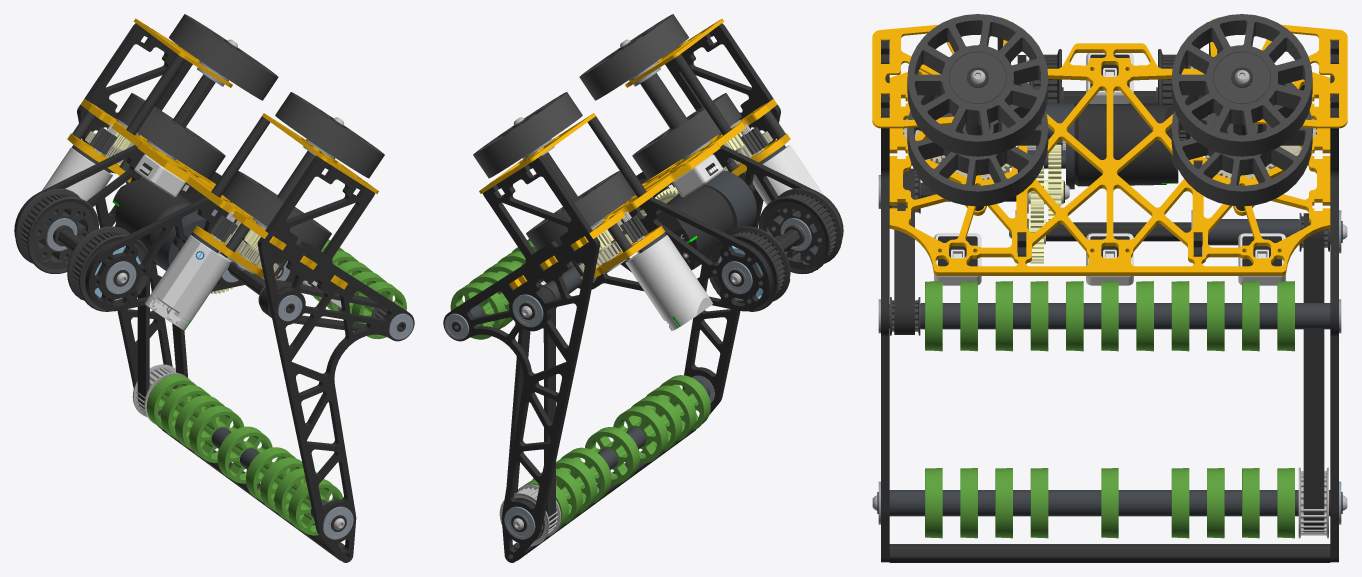
3 renders of one model, left to right at view 1: azimuth 30°, elevation 25°; view 2: azimuth 150°, elevation 25°; view 3: azimuth 270°, elevation 25°, orthographic. The views are drawn at different scales.
Parts seen in each view (by area): view 1: 3354-2025CS-Intake Frame-8000-4, 2" OD 1/2" Hex Bore Compliant Wheel 35A (am-3462) (×10), 4" OD 1/2" Hex Bore Compliant Wheel 50A (am-3480) (×2), 42t 15mm Wide 1.125" Bearing Bore Double Flange 5mm HTD Pull (×4), 4" OD 1/2" Hex Bore Compliant Wheel 35A (am-3480) (×2), id192 (×2), 3354-2025CS-Intake Frame-8000-5, 3354-2025CS-Intake Frame-8000-1, Shaft (×6), 3354-2025CS-Intake Frame-8000-3, Kraken X60 Brushless Motor, 3354-2025CS-Intake Frame-8000-2 (+11 smaller); view 2: 3354-2025CS-Intake Frame-8000-5, 2" OD 1/2" Hex Bore Compliant Wheel 35A (am-3462) (×9), 4" OD 1/2" Hex Bore Compliant Wheel 50A (am-3480) (×2), 42t 15mm Wide 1.125" Bearing Bore Double Flange 5mm HTD Pull (×4), 3354-2025CS-Intake Frame-8000-4, id192 (×2), 4" OD 1/2" Hex Bore Compliant Wheel 35A (am-3480) (×2), 3354-2025CS-Intake Frame-8000-2, Shaft (×4), Kraken X60 Brushless Motor, 3354-2025CS-Intake Frame-8000-3, 105t 5mm Belt (+10 smaller); view 3: 4" OD 1/2" Hex Bore Compliant Wheel 50A (am-3480) (×2), 3354-2025CS-Intake Frame-8000-3, 2" OD 1/2" Hex Bore Compliant Wheel 35A (am-3462) (×20), 4" OD 1/2" Hex Bore Compliant Wheel 35A (am-3480) (×2), Shaft (×2), Kraken X60 Brushless Motor, 105t 5mm Belt, 3354-2025CS-Intake Frame-8000-5, 3354-2025CS-Intake Frame-8000-4, id37 (×4), 3354-2025CS-Intake Frame-8000-6, 3354-2025CS-Intake Frame-8000-7 (+10 smaller).
Boxes of the visible parts, box(x1,y1,x2,y2) form: 3354-2025CS-Intake Frame-8000-4: box(257, 155, 414, 562); 2" OD 1/2" Hex Bore Compliant Wheel 35A (am-3462) (×10): box(146, 282, 406, 535); 4" OD 1/2" Hex Bore Compliant Wheel 50A (am-3480) (×2): box(169, 14, 384, 178); 42t 15mm Wide 1.125" Bearing Bore Double Flange 5mm HTD Pull (×4): box(15, 188, 150, 311); 4" OD 1/2" Hex Bore Compliant Wheel 35A (am-3480) (×2): box(116, 93, 331, 250); id192 (×2): box(42, 124, 235, 330); 3354-2025CS-Intake Frame-8000-5: box(77, 23, 221, 428); 3354-2025CS-Intake Frame-8000-1: box(85, 197, 306, 311); Shaft (×6): box(57, 39, 344, 560); 3354-2025CS-Intake Frame-8000-3: box(80, 99, 356, 294); Kraken X60 Brushless Motor: box(112, 179, 191, 265); 3354-2025CS-Intake Frame-8000-2: box(14, 143, 205, 238); 3354-2025CS-Intake Frame-8000-5: box(443, 155, 600, 562); 2" OD 1/2" Hex Bore Compliant Wheel 35A (am-3462) (×9): box(450, 282, 710, 524); 4" OD 1/2" Hex Bore Compliant Wheel 50A (am-3480) (×2): box(473, 14, 688, 178); 42t 15mm Wide 1.125" Bearing Bore Double Flange 5mm HTD Pull (×4): box(707, 188, 842, 311); 3354-2025CS-Intake Frame-8000-4: box(636, 23, 780, 428); id192 (×2): box(622, 124, 823, 330); 4" OD 1/2" Hex Bore Compliant Wheel 35A (am-3480) (×2): box(526, 93, 741, 250); 3354-2025CS-Intake Frame-8000-2: box(551, 197, 772, 311); Shaft (×4): box(513, 54, 800, 560); Kraken X60 Brushless Motor: box(644, 185, 733, 270); 3354-2025CS-Intake Frame-8000-3: box(501, 99, 777, 294); 105t 5mm Belt: box(506, 286, 556, 530); 4" OD 1/2" Hex Bore Compliant Wheel 50A (am-3480) (×2): box(907, 14, 1312, 156); 3354-2025CS-Intake Frame-8000-3: box(889, 43, 1330, 275); 2" OD 1/2" Hex Bore Compliant Wheel 35A (am-3462) (×20): box(925, 281, 1294, 538); 4" OD 1/2" Hex Bore Compliant Wheel 35A (am-3480) (×2): box(907, 74, 1312, 206); Shaft (×2): box(889, 221, 1347, 562); Kraken X60 Brushless Motor: box(1027, 103, 1178, 186); 105t 5mm Belt: box(1303, 213, 1324, 532); 3354-2025CS-Intake Frame-8000-5: box(1330, 40, 1338, 562); 3354-2025CS-Intake Frame-8000-4: box(881, 40, 889, 562); id37 (×4): box(934, 53, 1285, 285); 3354-2025CS-Intake Frame-8000-6: box(872, 18, 1008, 128); 3354-2025CS-Intake Frame-8000-7: box(1210, 18, 1347, 128).
Bounding box in the file's own units: 0.2956 × 0.4316 × 0.3429.
